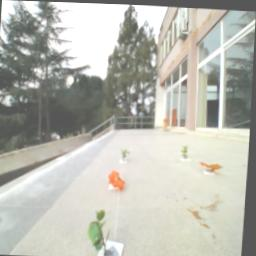herb: (88, 207, 116, 253), (121, 147, 133, 161), (182, 144, 190, 159)
wild: (109, 170, 129, 191), (200, 158, 227, 173)
